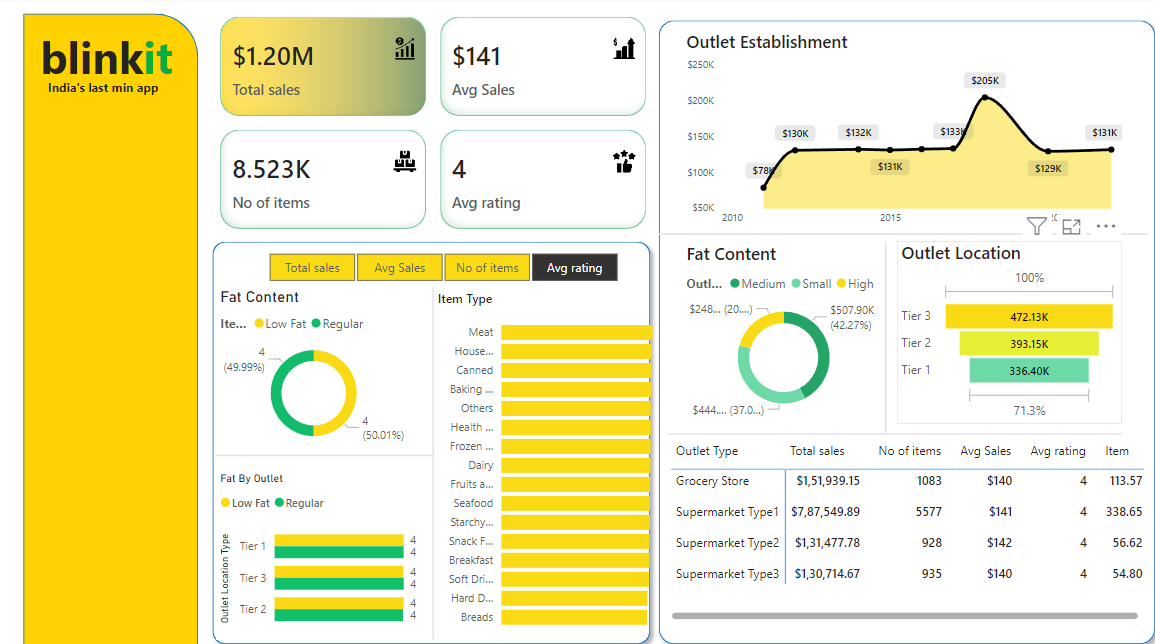

Layout of this report page (visuals, bound fields, positions):
{"tool":"powerbi","page":{"name":"Page 1","canvas":[1280,720],"ordinal":0},"visuals":[{"type":"shape","box":[28.8,19.2,192.1,701.2],"z":0},{"type":"textbox","box":[28.8,28.8,182.5,133.1],"z":1000},{"type":"textbox","box":[50.8,86.4,189.4,75.5],"z":2000},{"type":"cardVisual","fields":{"Data":["BlinkIT Grocery Data.Total sales","BlinkIT Grocery Data.Avg Sales","BlinkIT Grocery Data.No of items","BlinkIT Grocery Data.Avg rating"]},"box":[240.1,17.8,477.5,244.3],"z":3000},{"type":"shape","box":[227.8,260.7,498.1,459.7],"z":4000},{"type":"donutChart","title":" Fat Content","fields":{"Y":["BlinkIT Grocery Data.Avg rating"],"Category":["BlinkIT Grocery Data.Item Fat Content"]},"box":[240.1,319.7,215.4,183.9],"z":5000},{"type":"slicer","fields":{"Values":["Metrics.Metrics"]},"box":[273.1,275.8,432.2,43.9],"z":6000},{"type":"clusteredBarChart","title":"Fat By Outlet","fields":{"Y":["BlinkIT Grocery Data.Avg rating"],"Category":["BlinkIT Grocery Data.Outlet Location Type"],"Series":["BlinkIT Grocery Data.Item Fat Content"]},"box":[240.1,522.8,225,183.9],"z":7000},{"type":"shape","box":[240.1,382.8,238.8,242.9],"z":8000},{"type":"shape","box":[359.5,319.7,238.8,387],"z":9000},{"type":"barChart","title":" Item Type","fields":{"Y":["BlinkIT Grocery Data.Avg rating"],"Category":["BlinkIT Grocery Data.Item Type"]},"box":[478.9,322.5,247,381.5],"z":10000},{"type":"shape","box":[717.7,17.8,562.6,702.6],"z":11000},{"type":"lineChart","title":"Outlet Establishment","fields":{"Category":["BlinkIT Grocery Data.Outlet Establishment Year"],"Y":["BlinkIT Grocery Data.Total sales"]},"box":[752,37,488.5,223.7],"z":12000},{"type":"shape","box":[725.9,140,537.9,242.9],"z":13000},{"type":"donutChart","title":" Fat Content","fields":{"Y":["BlinkIT Grocery Data.Total sales"],"Category":["BlinkIT Grocery Data.Outlet Size"]},"box":[752,270.3,223.7,199],"z":14000},{"type":"shape","box":[856.3,270.3,238.8,209.9],"z":15000},{"type":"funnel","title":" Outlet Location ","fields":{"Y":["Sum(BlinkIT Grocery Data.Sales)"],"Category":["BlinkIT Grocery Data.Outlet Location Type"]},"box":[988,269,247,200.3],"z":16000},{"type":"shape","box":[735.5,359.5,499.5,242.9],"z":17000},{"type":"pivotTable","title":" Fat Content","fields":{"Rows":["BlinkIT Grocery Data.Outlet Type"],"Values":["BlinkIT Grocery Data.Total sales","BlinkIT Grocery Data.No of items","BlinkIT Grocery Data.Avg Sales","BlinkIT Grocery Data.Avg rating","Sum(BlinkIT Grocery Data.Item Visibility)"]},"box":[735.5,481.6,528.3,208.6],"z":18000}]}

Visuals, with their boxes in screenshot pixels (x1, y1, x2, y2), scaled from the page's 1280x720 canvas onto the 1155x644 screenshot:
shape: bbox(26, 17, 199, 643)
textbox: bbox(26, 26, 191, 145)
textbox: bbox(46, 77, 217, 145)
cardVisual - BlinkIT Grocery Data.Total sales x BlinkIT Grocery Data.Avg Sales: bbox(217, 16, 648, 234)
shape: bbox(206, 233, 655, 643)
" Fat Content" donutChart: bbox(217, 286, 411, 450)
slicer - Metrics.Metrics: bbox(246, 247, 636, 286)
"Fat By Outlet" clusteredBarChart: bbox(217, 468, 420, 632)
shape: bbox(217, 342, 432, 560)
shape: bbox(324, 286, 540, 632)
" Item Type" barChart: bbox(432, 288, 655, 630)
shape: bbox(648, 16, 1154, 643)
"Outlet Establishment" lineChart: bbox(679, 33, 1119, 233)
shape: bbox(655, 125, 1140, 342)
" Fat Content" donutChart: bbox(679, 242, 880, 420)
shape: bbox(773, 242, 988, 430)
" Outlet Location " funnel: bbox(892, 241, 1114, 420)
shape: bbox(664, 322, 1114, 539)
" Fat Content" pivotTable: bbox(664, 431, 1140, 617)
